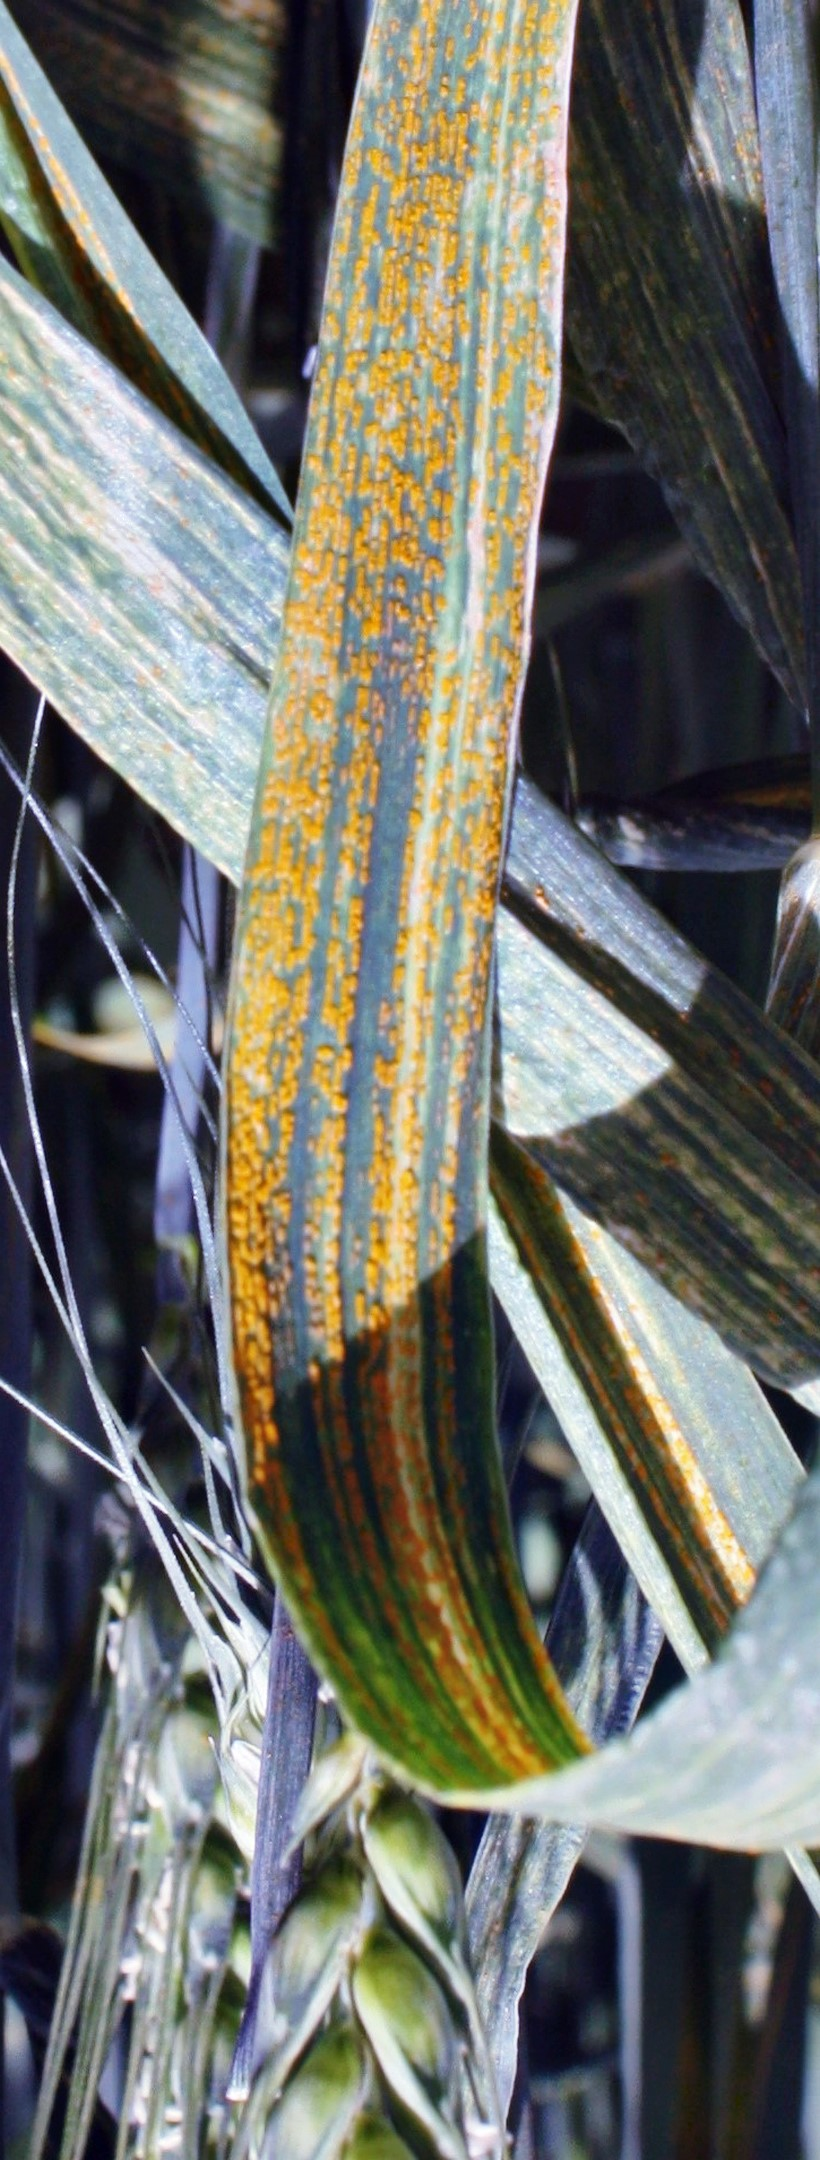Leaf Rust: (225, 83, 595, 1408)
